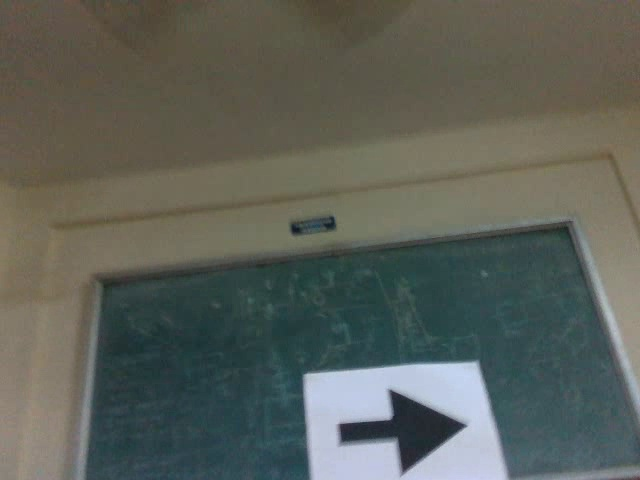Right: (330, 383, 476, 479)
